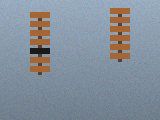defect: (30, 47, 50, 55)
insulator: (28, 10, 52, 76), (108, 6, 132, 63)
